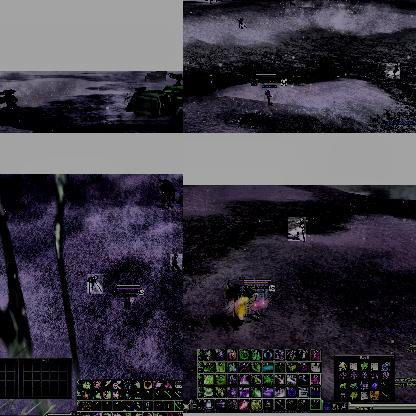caliana: (288, 217, 306, 241), (87, 274, 103, 294), (386, 63, 400, 79), (170, 254, 182, 270), (2, 208, 10, 220), (238, 18, 247, 28), (124, 91, 130, 103), (207, 0, 215, 4)
